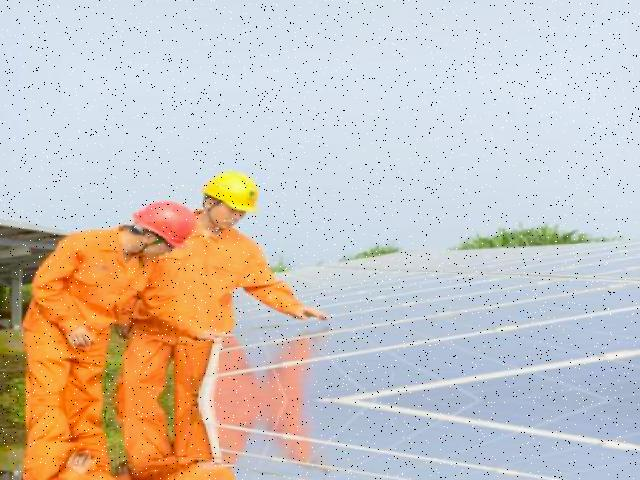Helmet: (128, 196, 204, 251), (202, 165, 267, 222)
